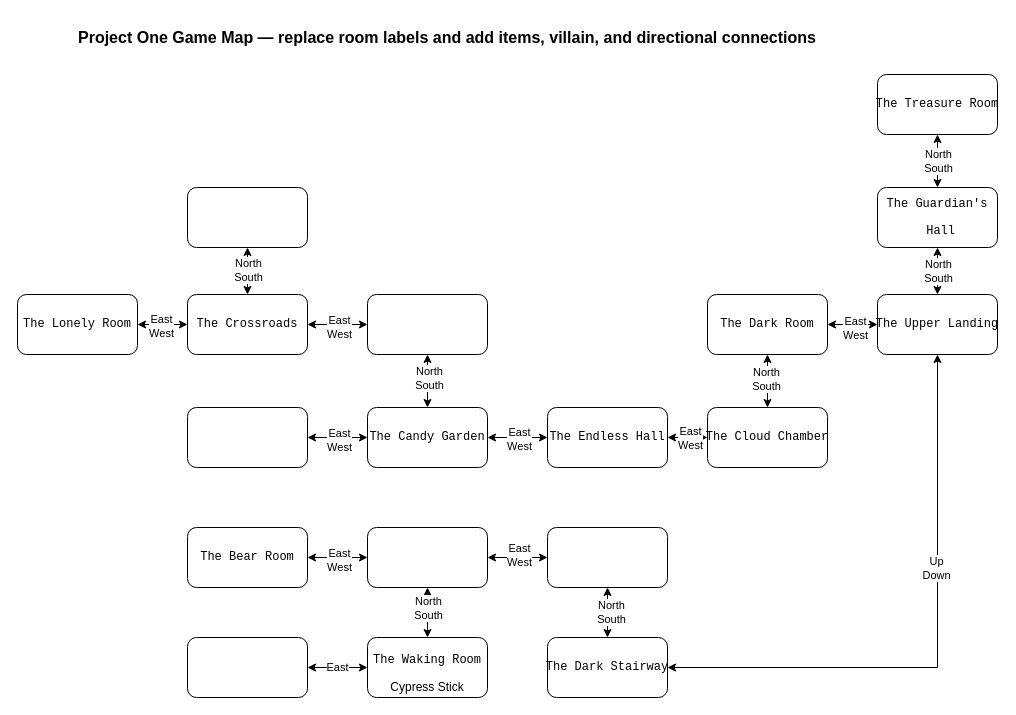
The diagram is 1016 pixels wide and 715 high, and some of its shapes have lost their labels. Each missing label, with the centre of its shape:
Hidden Room Play to find!: the point at 247,667
Hopscotch Court: the point at 607,557
Shadow Hall: the point at 427,557
The Bear's Den: the point at 247,437
The Nightmare's Chamber: the point at 247,217
The Noisy Room: the point at 427,324
